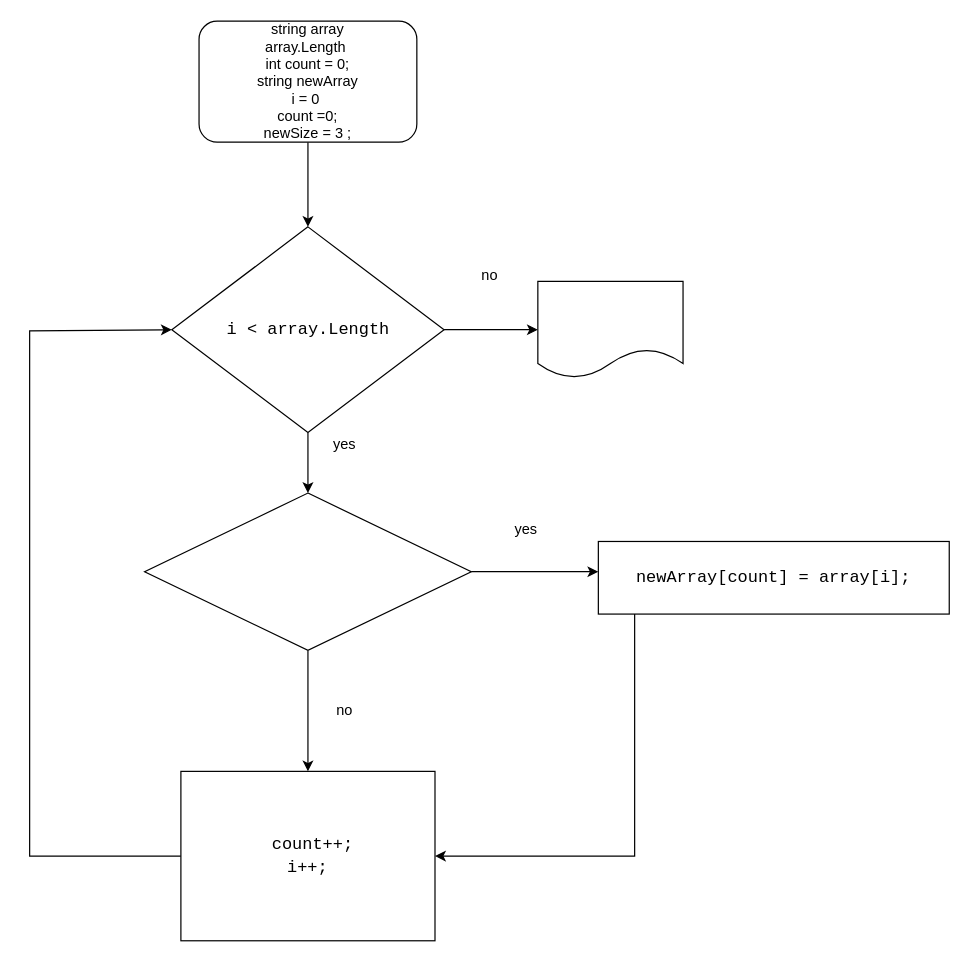
Image size: 970x962. Some labels were removed from this diagram. The centre of each missing label's shape, as x and y in pixels:
array[i].Length <= newSize: (x=307, y=571)
print newArray: (x=610, y=329)
